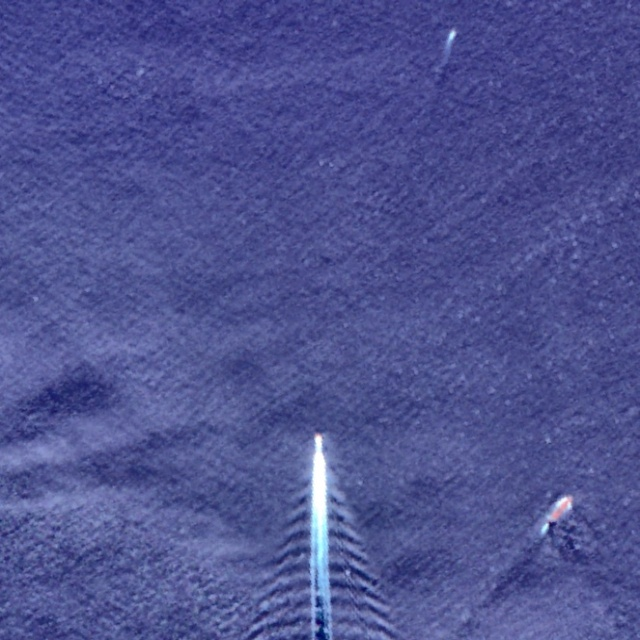wake: (262, 429, 377, 622)
